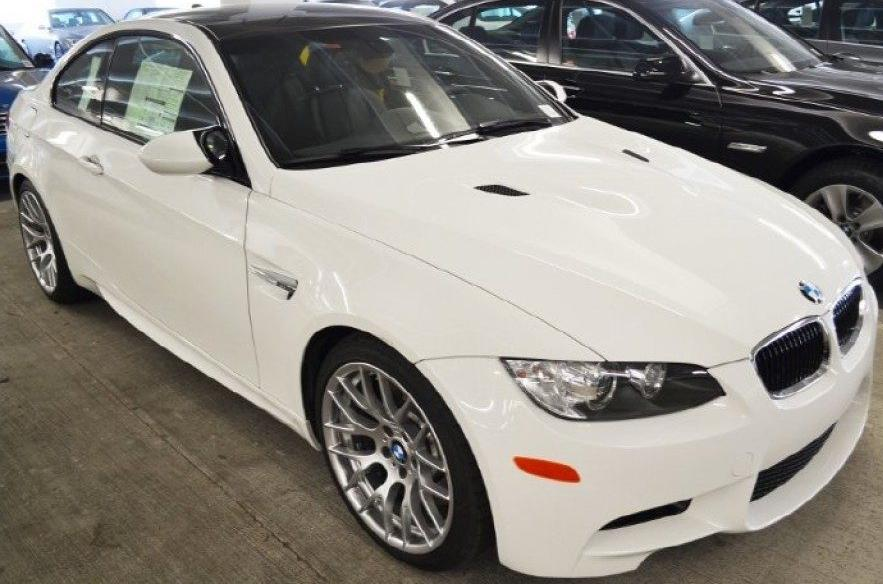front_view: (493, 247, 883, 568)
headlight: (493, 343, 731, 433)
side_glass: (47, 24, 257, 196)
